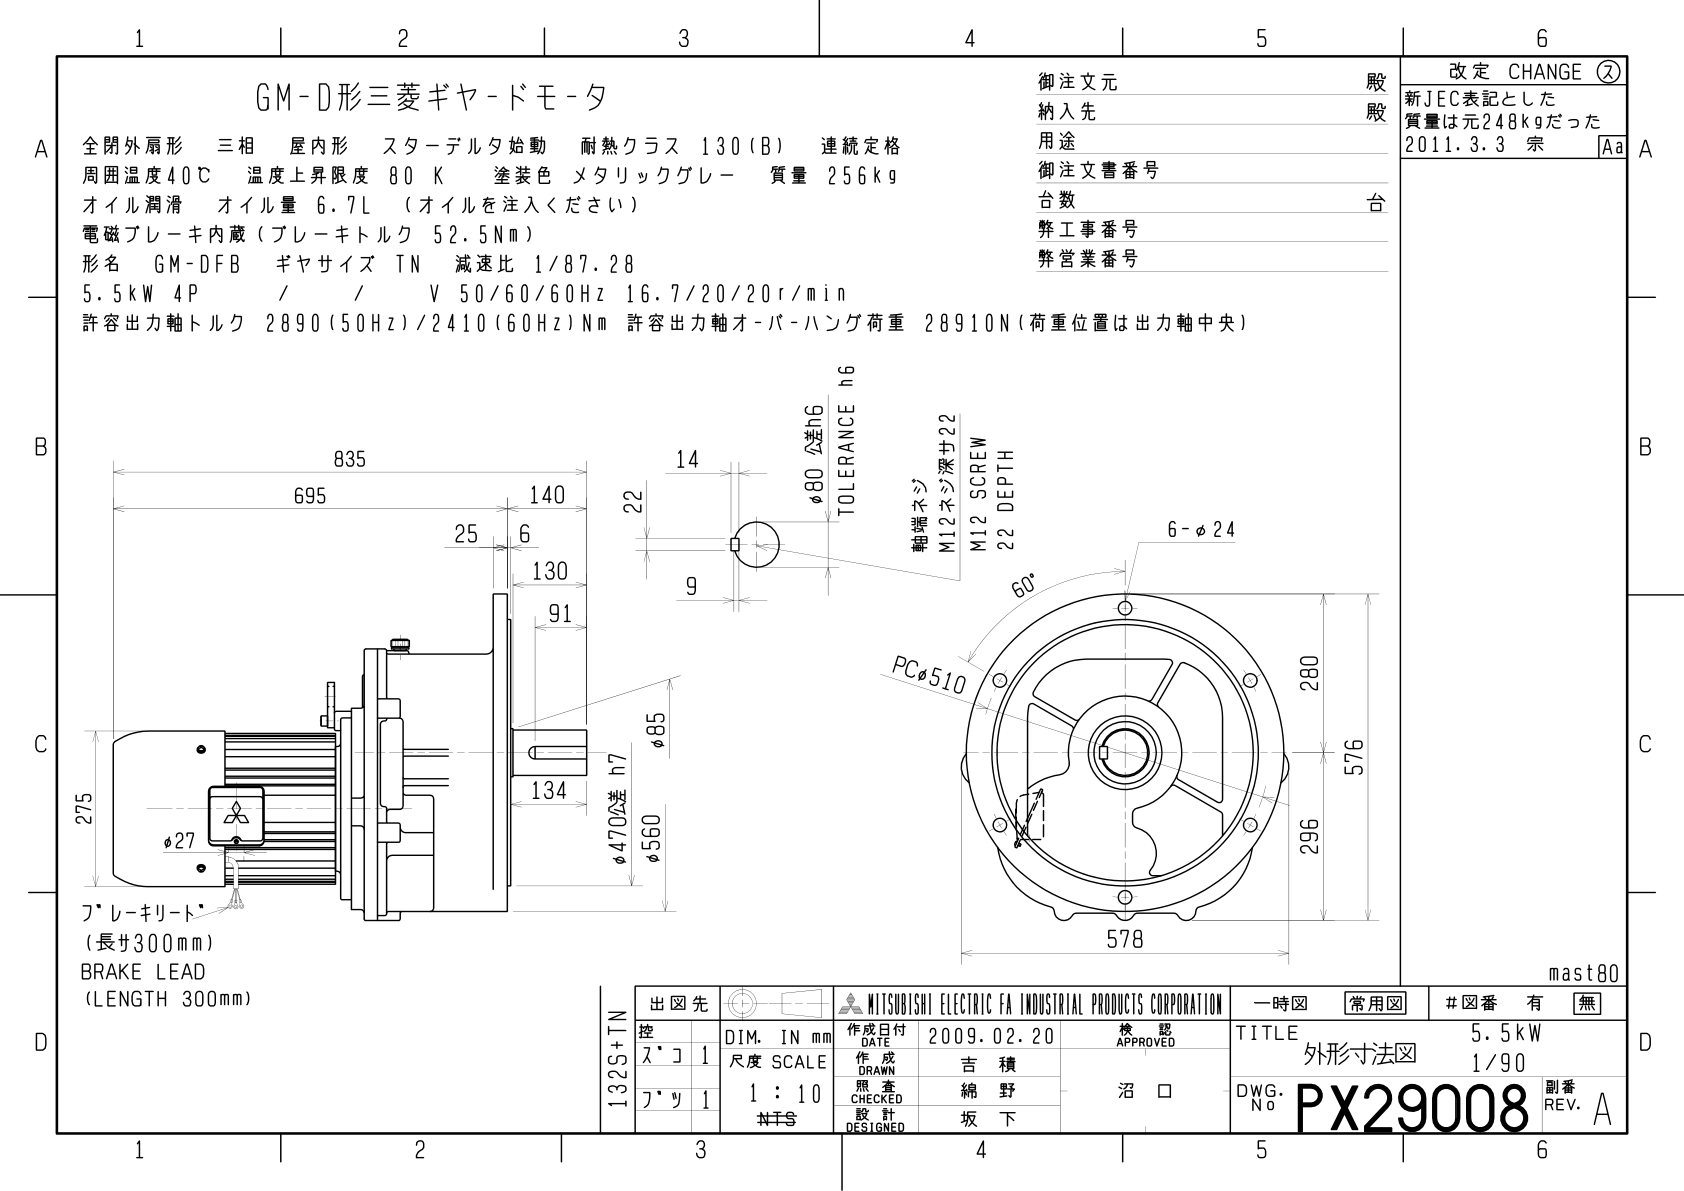GM_D_屋内＿三相_フランジ: (1, 1, 1680, 1170)
